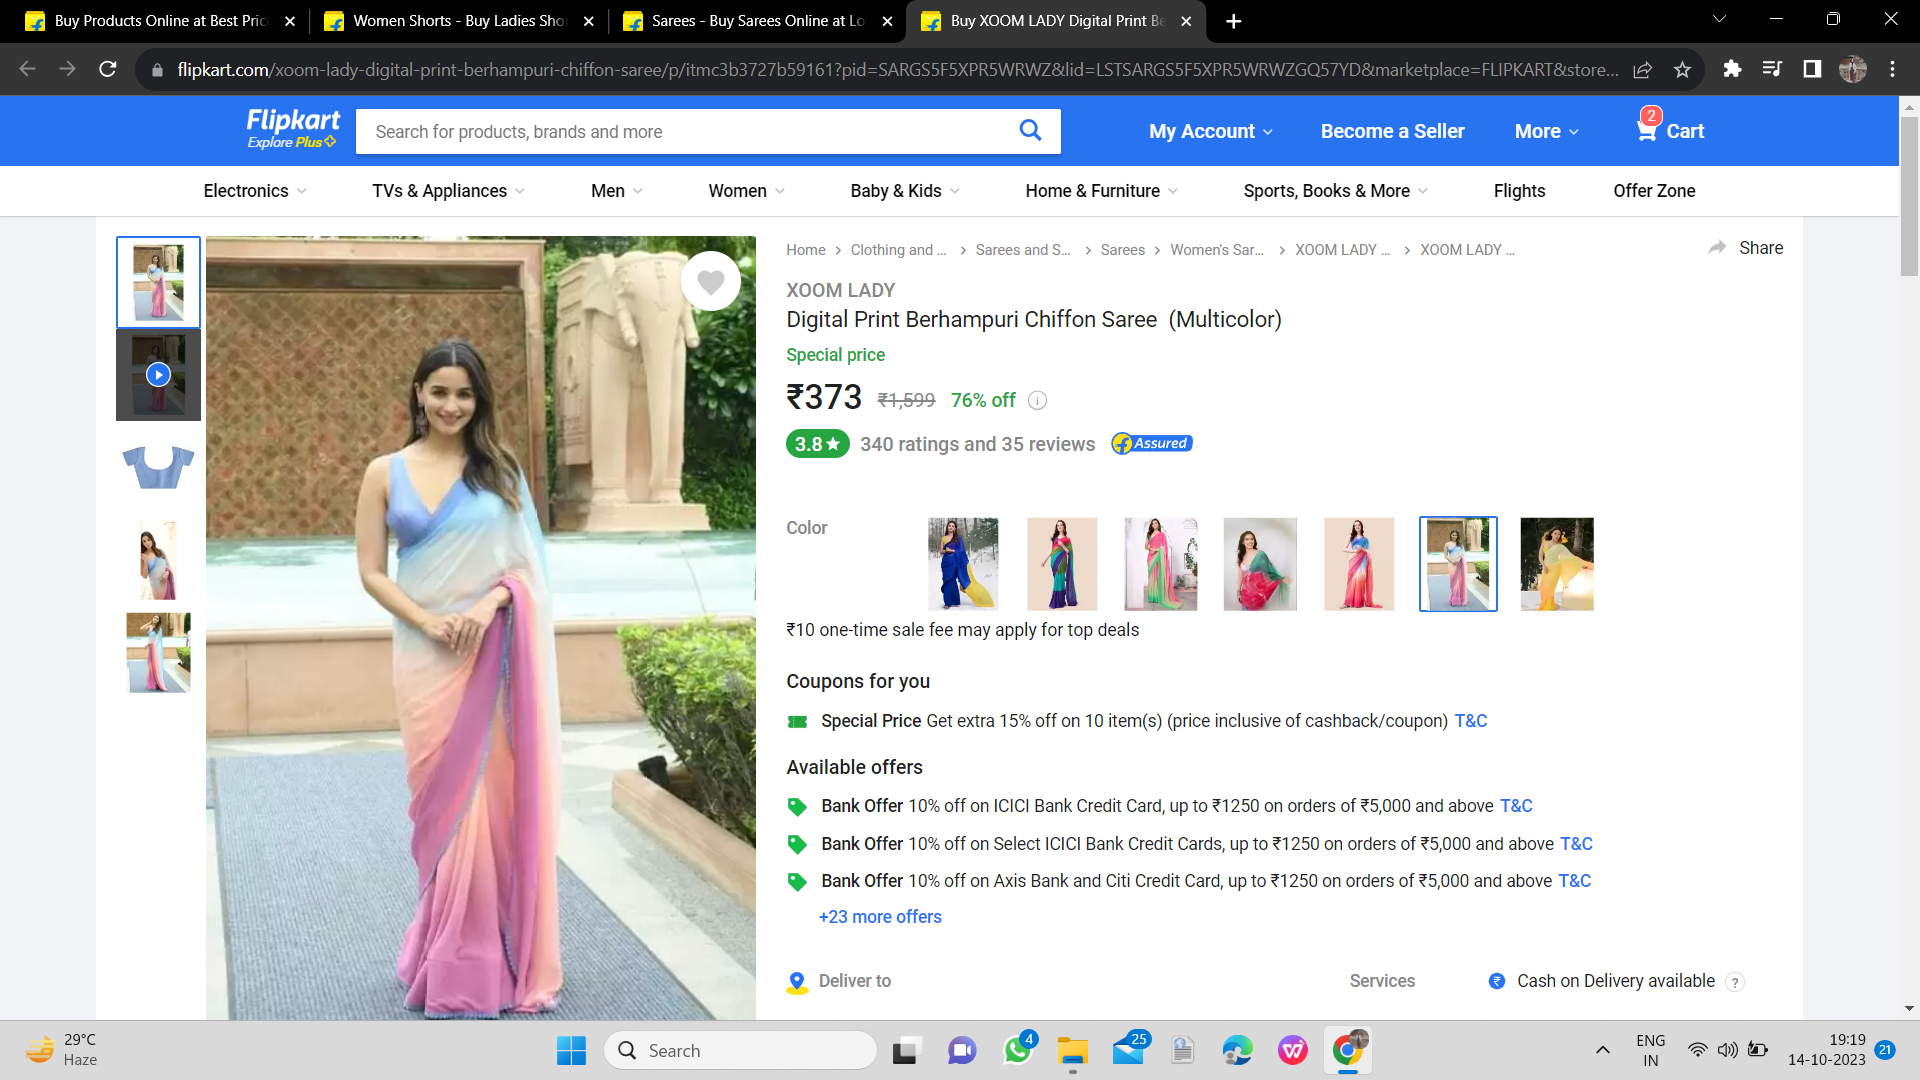Image: (207, 240, 756, 1014), (902, 516, 1594, 607)
Paragraph: (774, 787, 1611, 930), (781, 276, 1300, 340), (1129, 99, 1737, 152), (773, 414, 1212, 464), (774, 709, 1456, 737), (774, 340, 1025, 411), (1331, 953, 1720, 993), (766, 615, 1143, 644), (767, 750, 930, 777), (783, 671, 939, 691), (777, 506, 828, 542)
